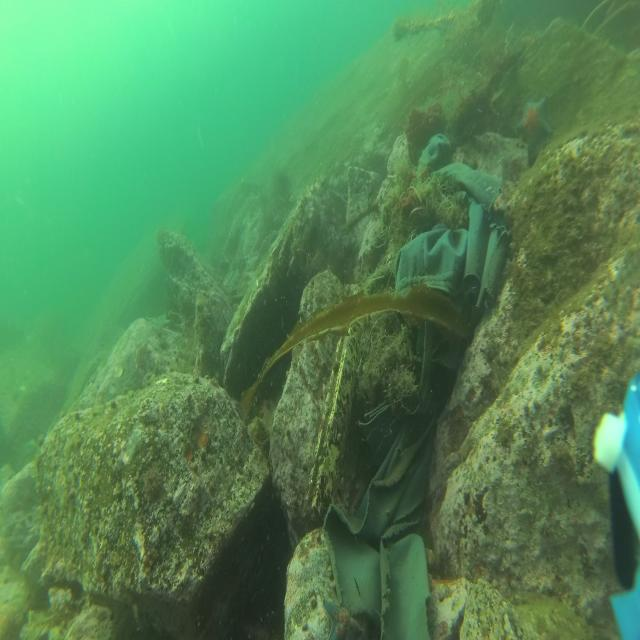starfish: (513, 95, 555, 164), (320, 595, 366, 640)
